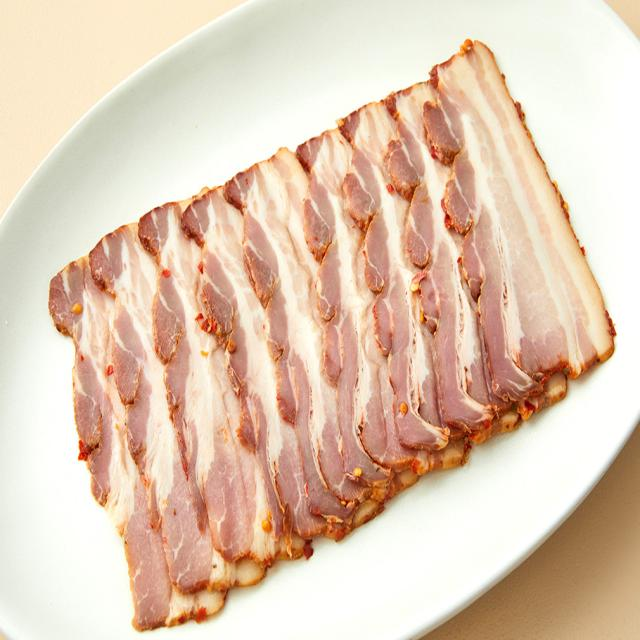bacon: (24, 116, 629, 614)
